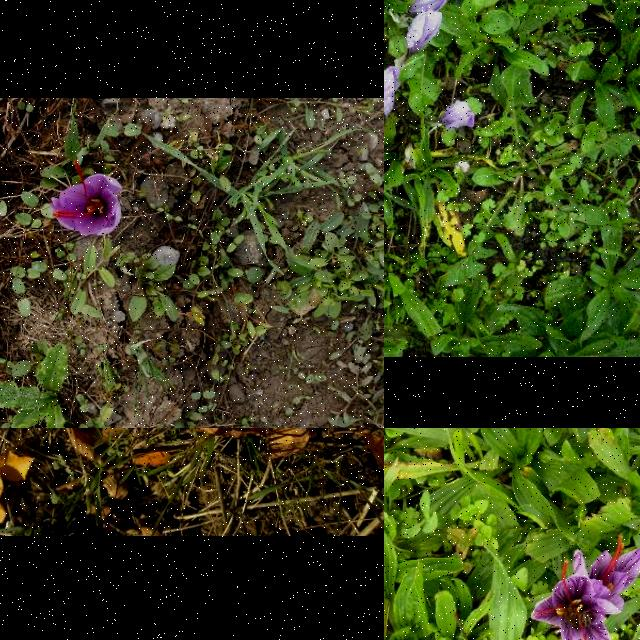flower: (531, 560, 612, 640), (50, 160, 124, 237), (574, 535, 640, 615), (406, 10, 444, 56), (445, 103, 473, 129), (407, 0, 452, 14), (384, 68, 395, 117)
